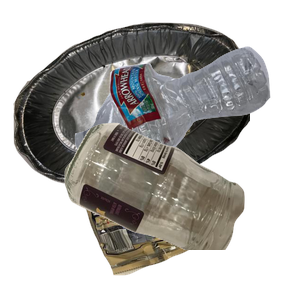glass: (62, 120, 300, 300)
metal: (11, 20, 251, 200)
plastic: (72, 44, 300, 200)
trash: (81, 137, 280, 300)
